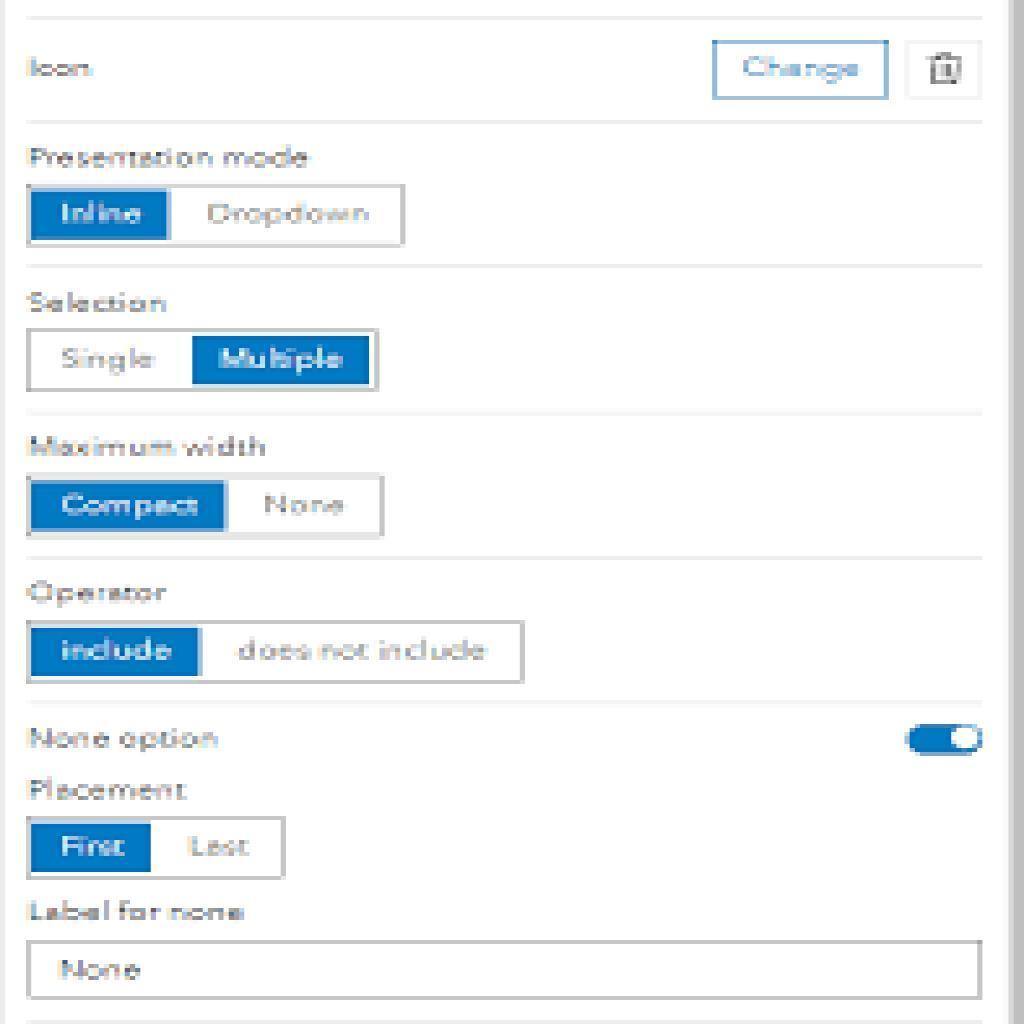button: (714, 40, 890, 102), (32, 480, 226, 534), (32, 625, 200, 679), (192, 334, 370, 384), (32, 190, 170, 242), (31, 824, 153, 874)
icon: (915, 47, 973, 91)
input: (30, 940, 982, 1000)
label: (25, 142, 317, 174), (234, 634, 492, 668), (30, 427, 269, 463), (25, 898, 251, 929), (198, 195, 380, 233), (24, 722, 223, 756), (31, 771, 200, 809), (30, 284, 175, 321), (28, 577, 175, 613), (54, 342, 159, 379), (261, 492, 357, 521), (188, 831, 251, 866), (30, 54, 96, 82)
switch: (907, 723, 986, 758)
